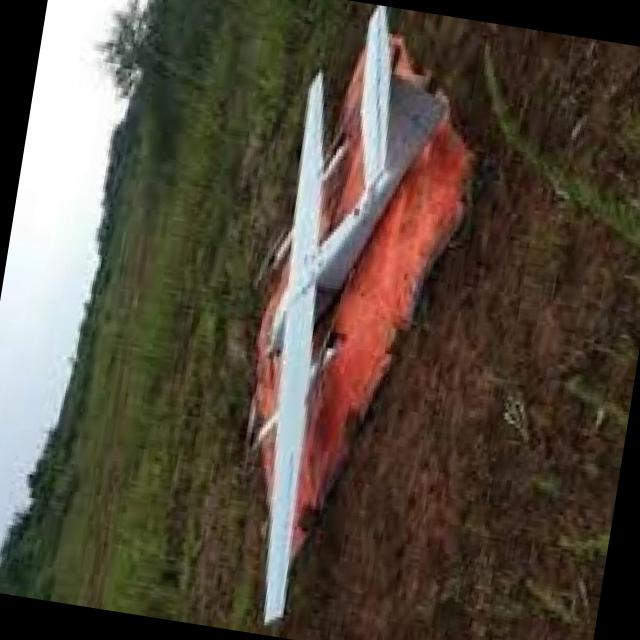UAV: (148, 0, 534, 640)
